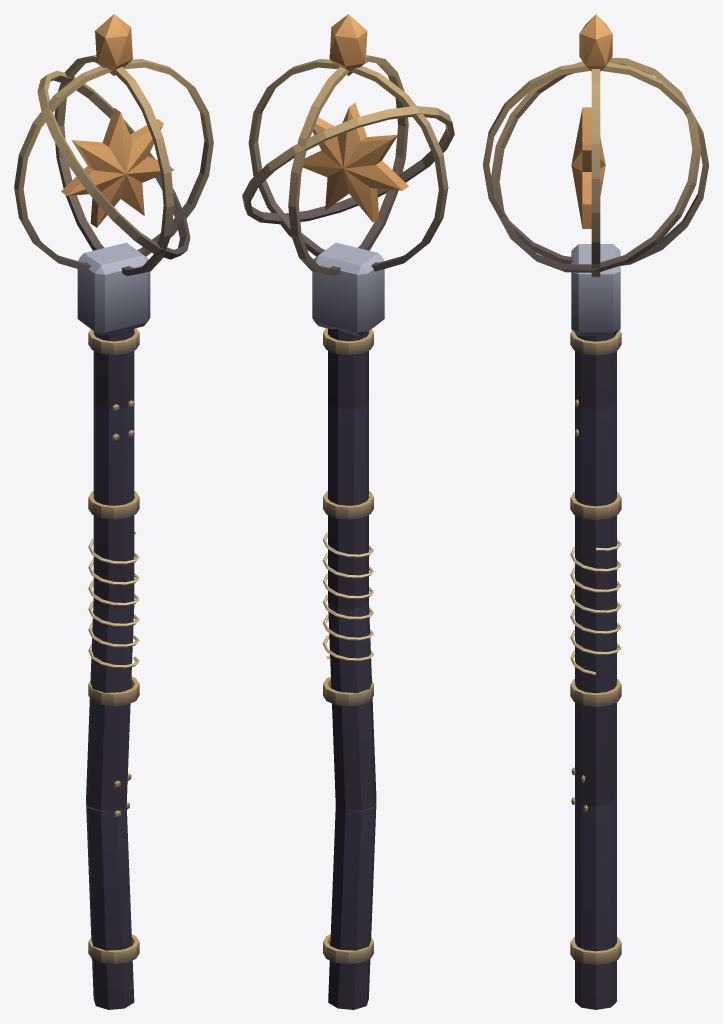
Rendered from baston_orrery_solar.glb.
3 renders of one model, left to right at view 1: azimuth 30°, elevation 25°; view 2: azimuth 150°, elevation 25°; view 3: azimuth 270°, elevation 25°, orthographic.
Visible parts, largest first — view 1: baston_orrery_solar_finished; view 2: baston_orrery_solar_finished; view 3: baston_orrery_solar_finished.
Boxes of the visible parts, bbox=[...] form: baston_orrery_solar_finished: bbox=[14, 14, 213, 1009]; baston_orrery_solar_finished: bbox=[242, 14, 454, 1009]; baston_orrery_solar_finished: bbox=[483, 14, 708, 1009].
Bounding box in the file's own units: 0.46 × 2.22 × 0.46.
2 materials, 2 textured.
